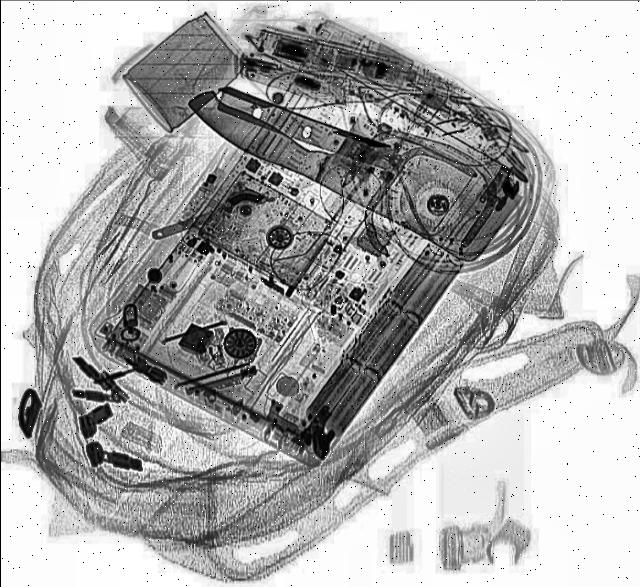Knife: (179, 41, 527, 268)
